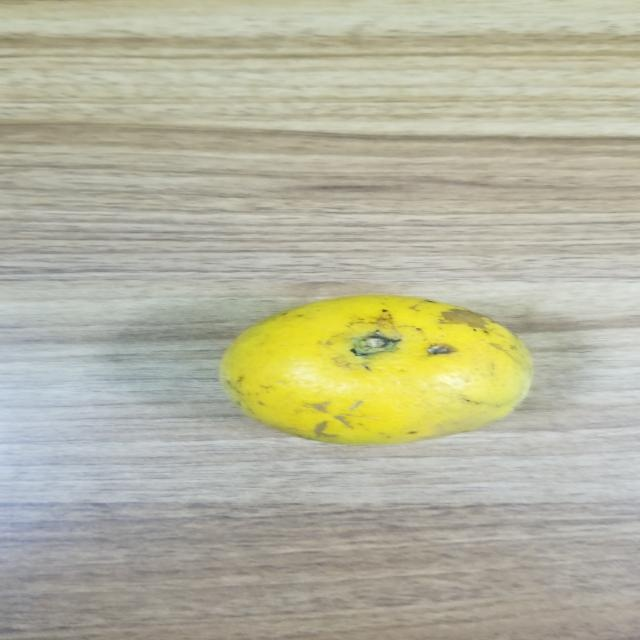agrume: (209, 294, 558, 465)
